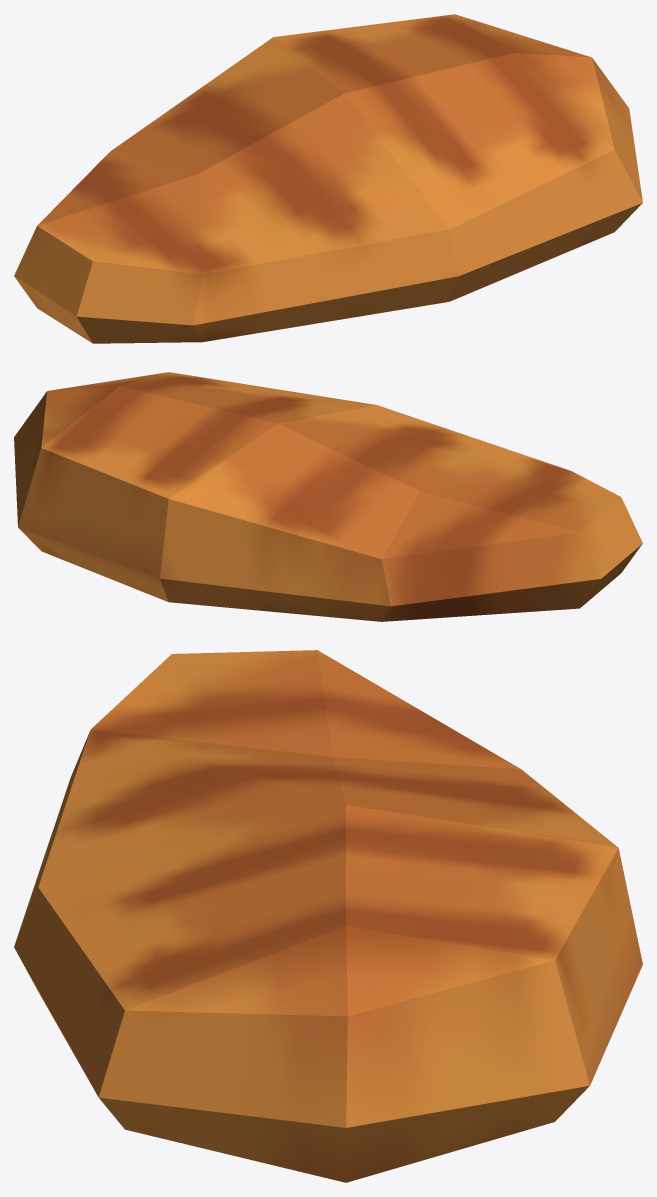
The model's file is SM_Prop_Food_Chicken_Breast_Cooked_02.obj.
3 views of the same model, one above another, from view 1: azimuth 30°, elevation 25°; view 2: azimuth 150°, elevation 25°; view 3: azimuth 270°, elevation 25° (orthographic). The views are drawn at different scales.
Parts seen in each view (by area): view 1: SM_Prop_Food_Chicken_Breast_Cooked_02_0; view 2: SM_Prop_Food_Chicken_Breast_Cooked_02_0; view 3: SM_Prop_Food_Chicken_Breast_Cooked_02_0.
Boxes of the visible parts, x1,y1,x2,y2 form: SM_Prop_Food_Chicken_Breast_Cooked_02_0: (14, 14, 642, 343); SM_Prop_Food_Chicken_Breast_Cooked_02_0: (14, 372, 642, 621); SM_Prop_Food_Chicken_Breast_Cooked_02_0: (14, 650, 642, 1182).
Bounding box in the file's own units: 0.3336 × 0.0663 × 0.2011.
1 material, 1 textured.
